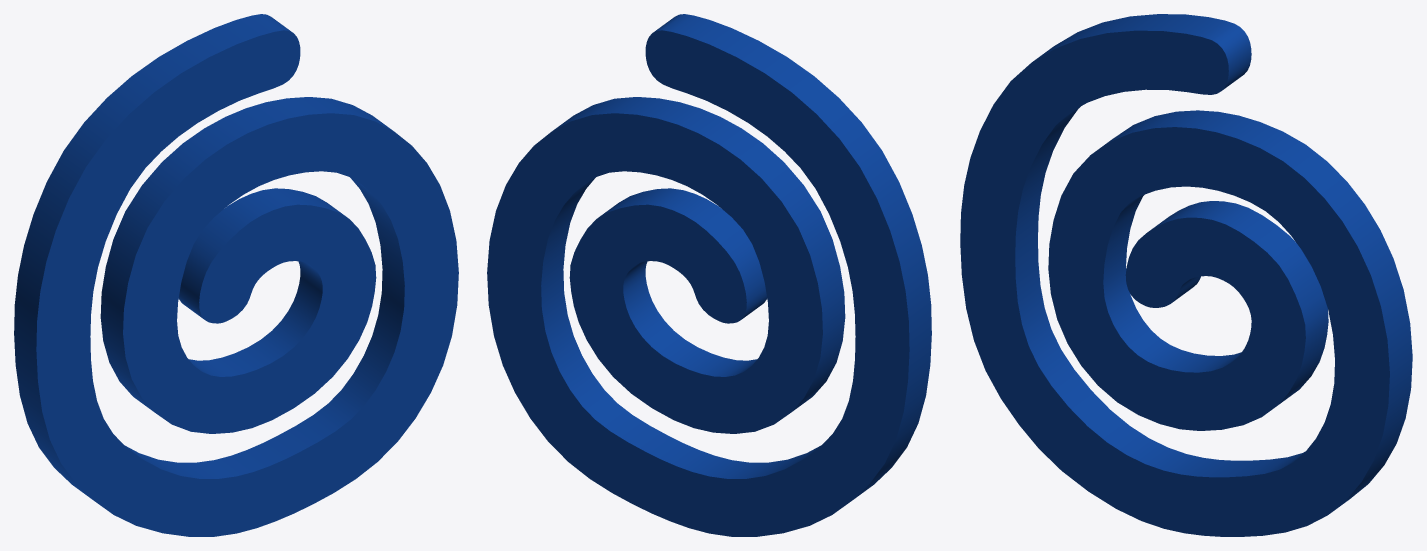
File: cyclone.gltf
3 renders of one model, left to right at view 1: azimuth 30°, elevation 25°; view 2: azimuth 150°, elevation 25°; view 3: azimuth 330°, elevation 25°, orthographic.
Visible parts, largest first — view 1: Plane.298; view 2: Plane.298; view 3: Plane.298.
Part boxes in pixels (<box>): Plane.298: <box>14,14,458,536</box>; Plane.298: <box>487,14,931,536</box>; Plane.298: <box>960,14,1412,536</box>.
Bounding box in the file's own units: 1.91 × 2.13 × 0.1751.
1 material, 1 textured.
